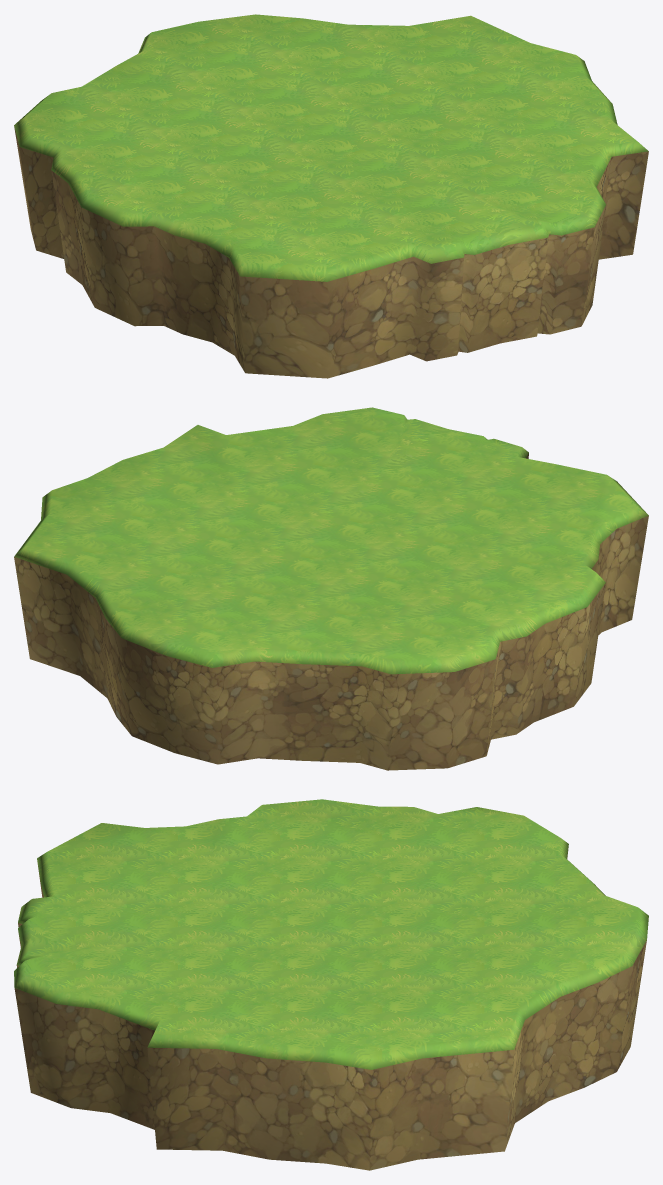
The model's file is new_ground2.fbx.
3 renders of one model, top to bottom at view 1: azimuth 30°, elevation 25°; view 2: azimuth 150°, elevation 25°; view 3: azimuth 270°, elevation 25°, orthographic. The views are drawn at different scales.
Visible parts, largest first — view 1: polySurface1; view 2: polySurface1; view 3: polySurface1.
Boxes of the visible parts, left/top/right/bottom form: polySurface1: left=14, top=14, right=648, bottom=378; polySurface1: left=14, top=407, right=648, bottom=770; polySurface1: left=14, top=799, right=648, bottom=1170.
Size of the model in its own units: 27.02 by 5.53 by 27.25.
